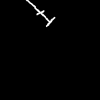double_crochet: (26, 0, 54, 26)
